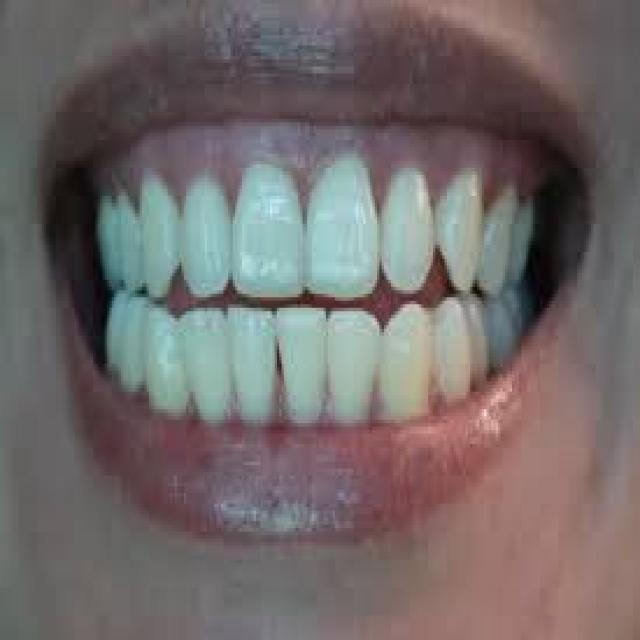tooth: (230, 171, 305, 301), (310, 168, 380, 301), (431, 140, 484, 290), (382, 161, 438, 297), (223, 308, 280, 427), (132, 171, 182, 301), (277, 304, 328, 423), (177, 185, 230, 298), (174, 304, 223, 423), (380, 308, 436, 412), (328, 311, 379, 420), (100, 301, 144, 402), (93, 196, 135, 294), (146, 308, 182, 416), (456, 287, 494, 388), (482, 185, 512, 294), (486, 301, 522, 364), (517, 203, 533, 280)
